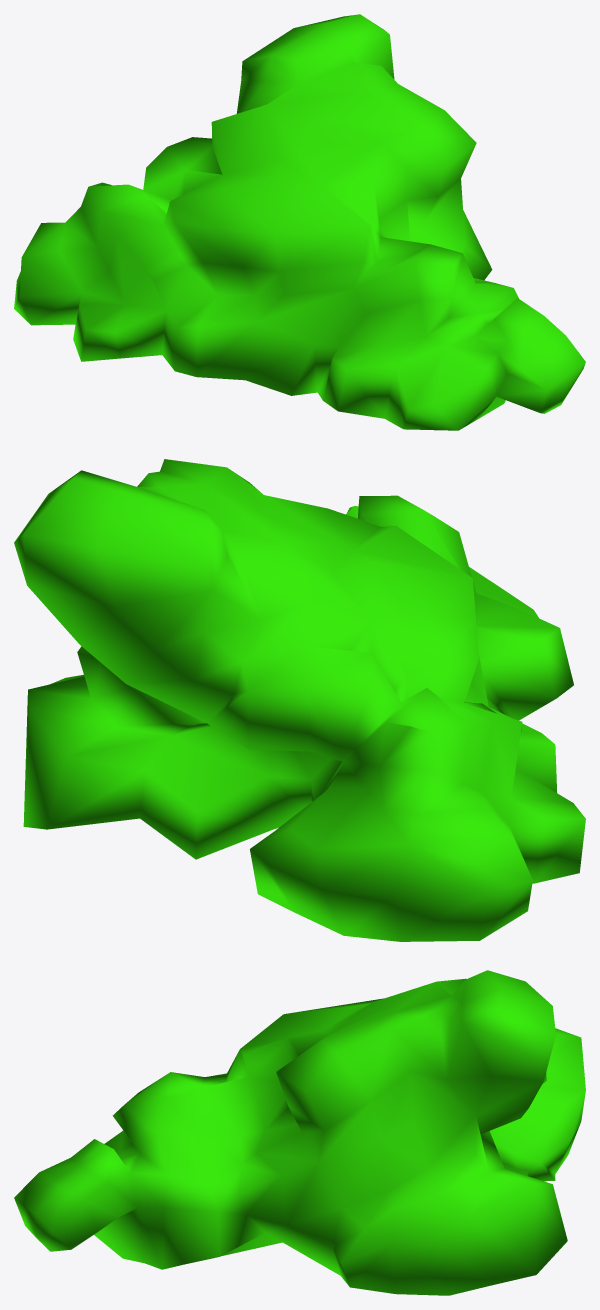
The model's file is Floor_Rock_Pile_02_Collider.fbx.
The picture shows the model from 3 angles, top to bottom: view 1: azimuth 30°, elevation 25°; view 2: azimuth 150°, elevation 25°; view 3: azimuth 270°, elevation 25°; orthographic projection. The views are drawn at different scales.
Parts seen in each view (by area): view 1: Floor_Rock_Pile_02_Collider; view 2: Floor_Rock_Pile_02_Collider; view 3: Floor_Rock_Pile_02_Collider.
Part boxes in pixels (<box>): Floor_Rock_Pile_02_Collider: <box>14,14,585,430</box>; Floor_Rock_Pile_02_Collider: <box>14,459,585,941</box>; Floor_Rock_Pile_02_Collider: <box>14,970,585,1295</box>.
Bounding box in the file's own units: 418 × 255 × 489.
